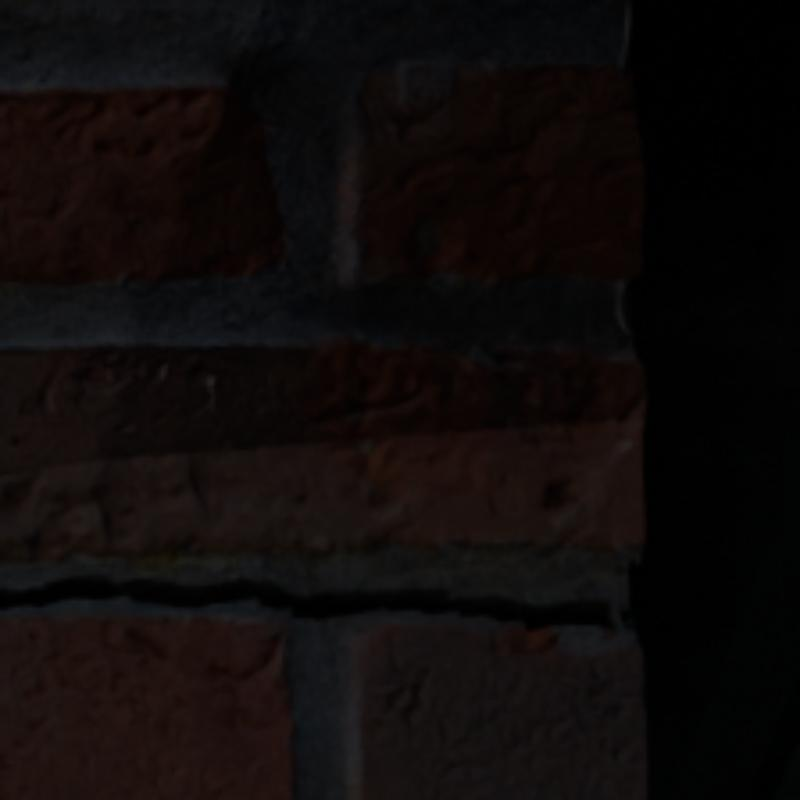pothole: (0, 579, 607, 629)
